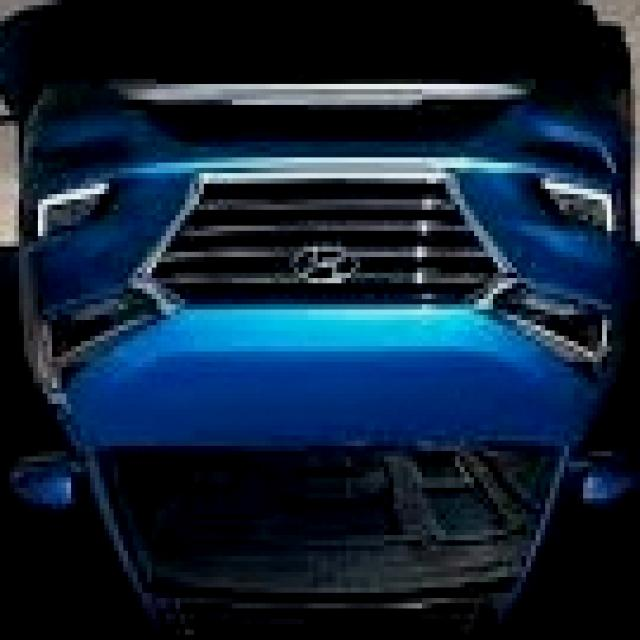blue: (4, 27, 630, 640)
